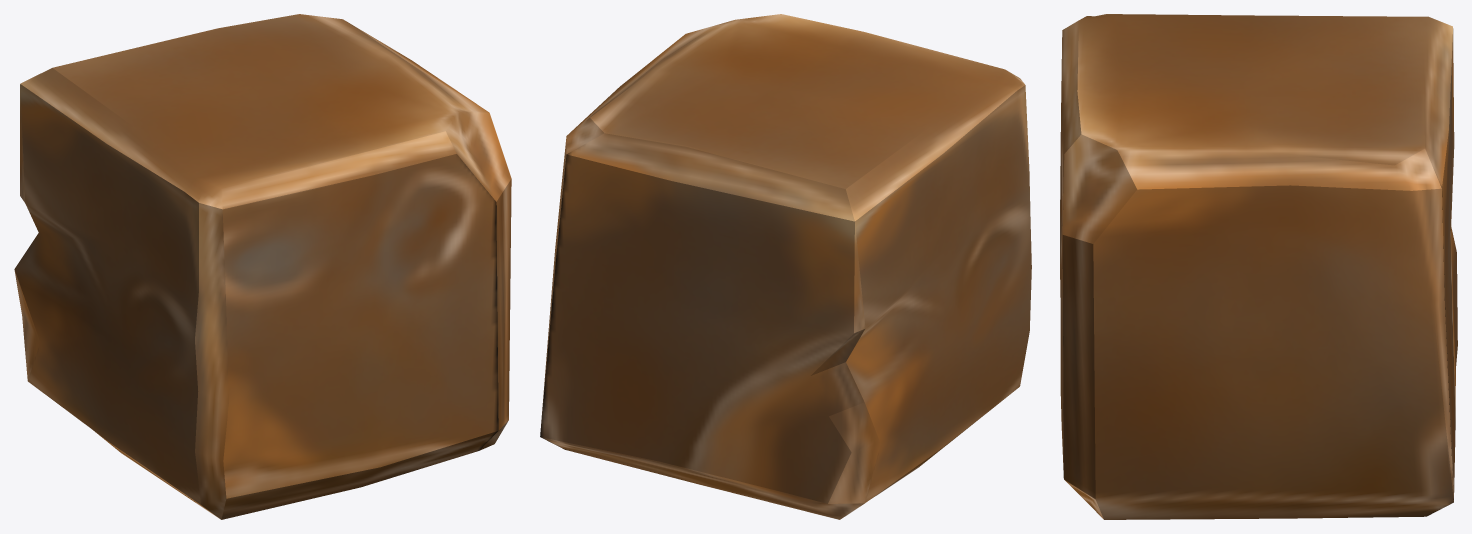
File: SM_Roca.fbx
3 renders of one model, left to right at view 1: azimuth 30°, elevation 25°; view 2: azimuth 150°, elevation 25°; view 3: azimuth 270°, elevation 25°, orthographic. The views are drawn at different scales.
Visible parts, largest first — view 1: SM_Roca; view 2: SM_Roca; view 3: SM_Roca.
Part boxes in pixels (<box>): SM_Roca: <box>14,14,511,519</box>; SM_Roca: <box>540,14,1031,519</box>; SM_Roca: <box>1060,14,1457,519</box>.
Bounding box in the file's own units: 176 × 173 × 174.
